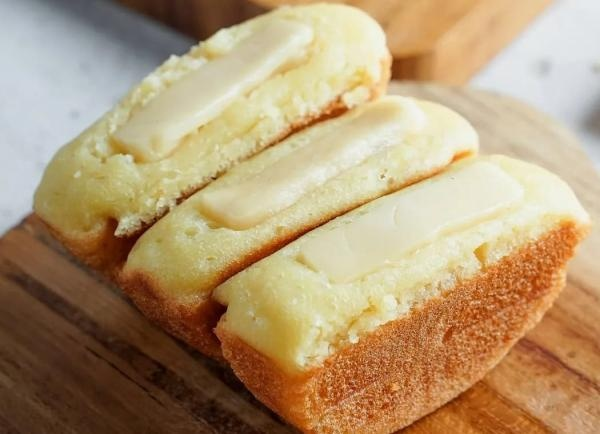pukis: (205, 162, 583, 424)
